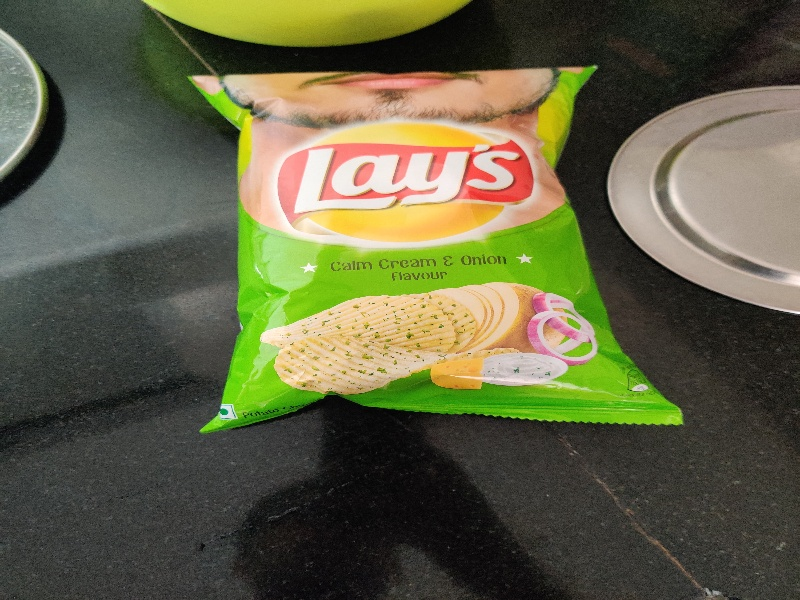lays: (180, 54, 690, 443)
